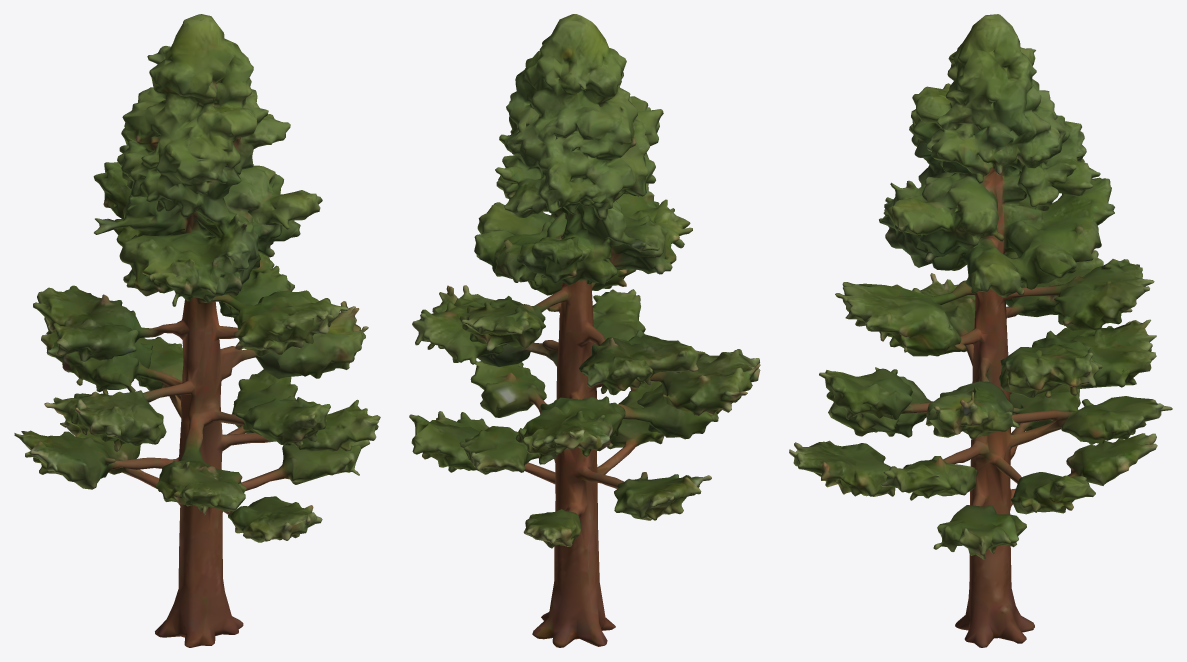
File: tree_pine.glb
3 views of the same model, side by side, from view 1: azimuth 30°, elevation 25°; view 2: azimuth 150°, elevation 25°; view 3: azimuth 270°, elevation 25° (orthographic).
Visible parts, largest first — view 1: tripo_node_c031ceef-e17e-4aac-b75a-34daca22fd2d; view 2: tripo_node_c031ceef-e17e-4aac-b75a-34daca22fd2d; view 3: tripo_node_c031ceef-e17e-4aac-b75a-34daca22fd2d.
Part boxes in pixels (x1,y1,x2,y2): tripo_node_c031ceef-e17e-4aac-b75a-34daca22fd2d: [14, 14, 380, 647]; tripo_node_c031ceef-e17e-4aac-b75a-34daca22fd2d: [409, 14, 760, 647]; tripo_node_c031ceef-e17e-4aac-b75a-34daca22fd2d: [789, 14, 1172, 647].
Bounding box in the file's own units: 0.5125 × 0.9355 × 0.5288.
Materials: 1 (1 with a texture image).
